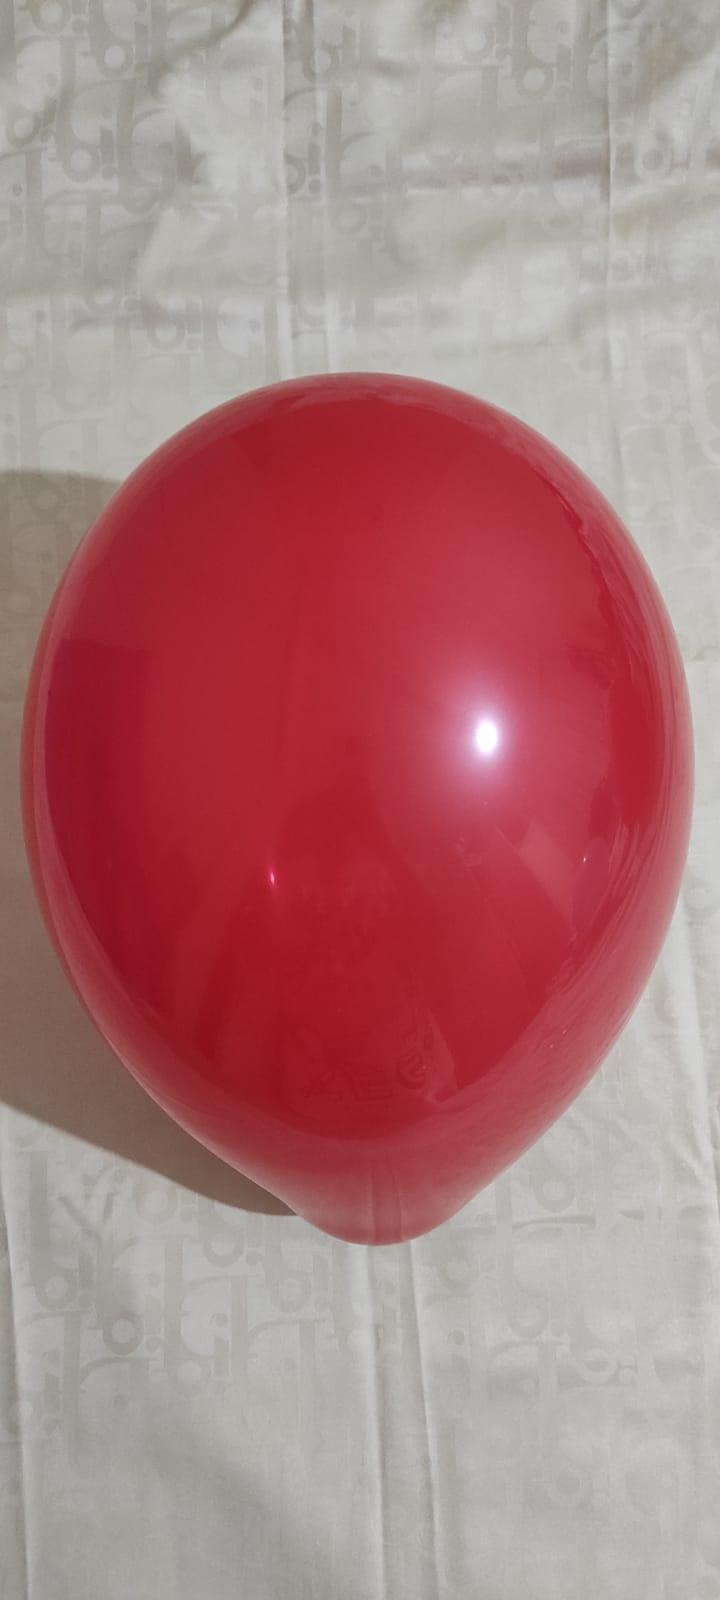red: (24, 370, 701, 1260)
